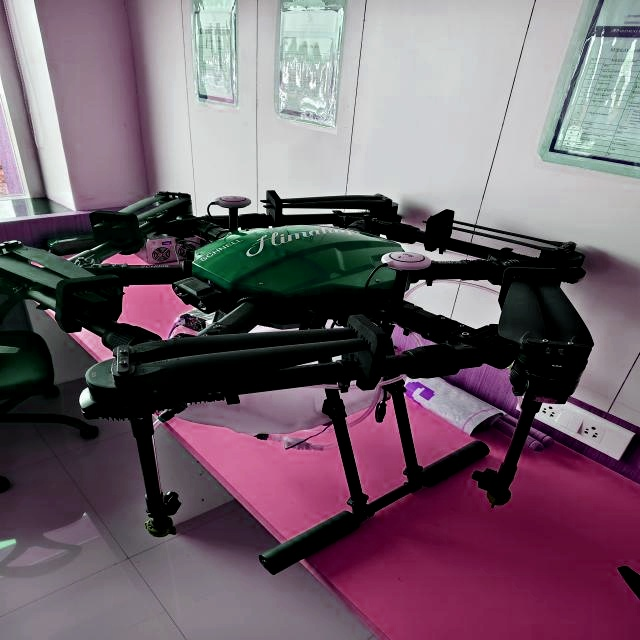agriculturedrone: (0, 185, 599, 578)
